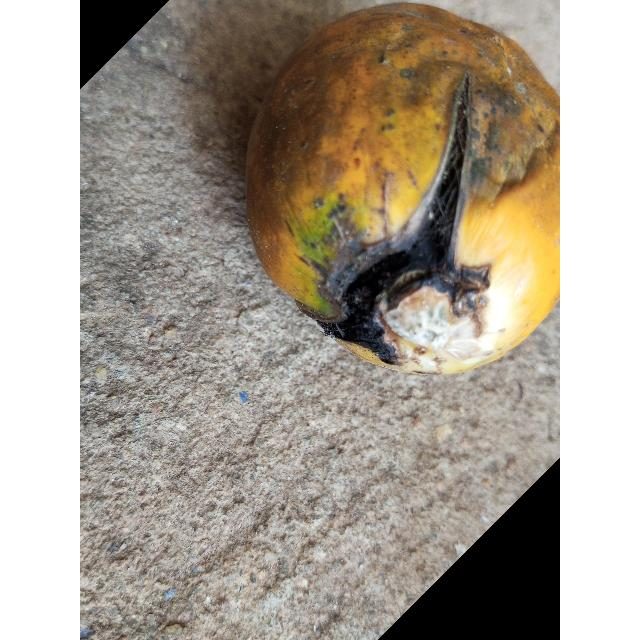damaged: (246, 4, 560, 374)
